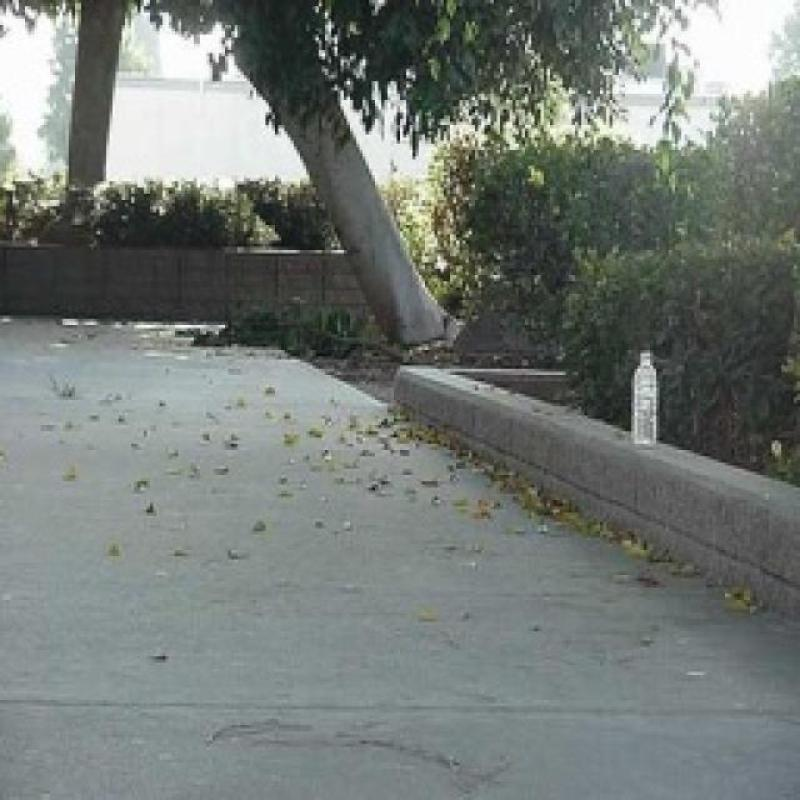botella: (632, 352, 656, 446)
